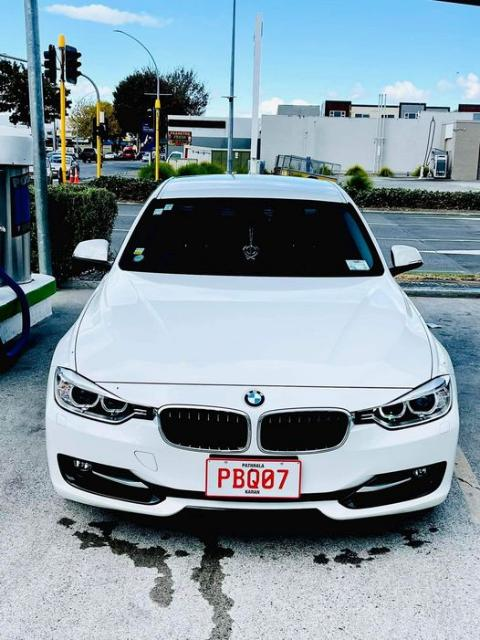Rego: (207, 459, 302, 500)
